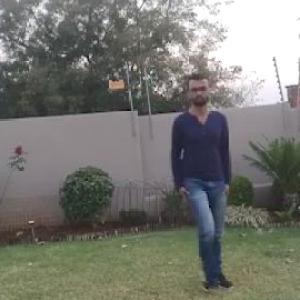follow: (146, 63, 225, 298)
